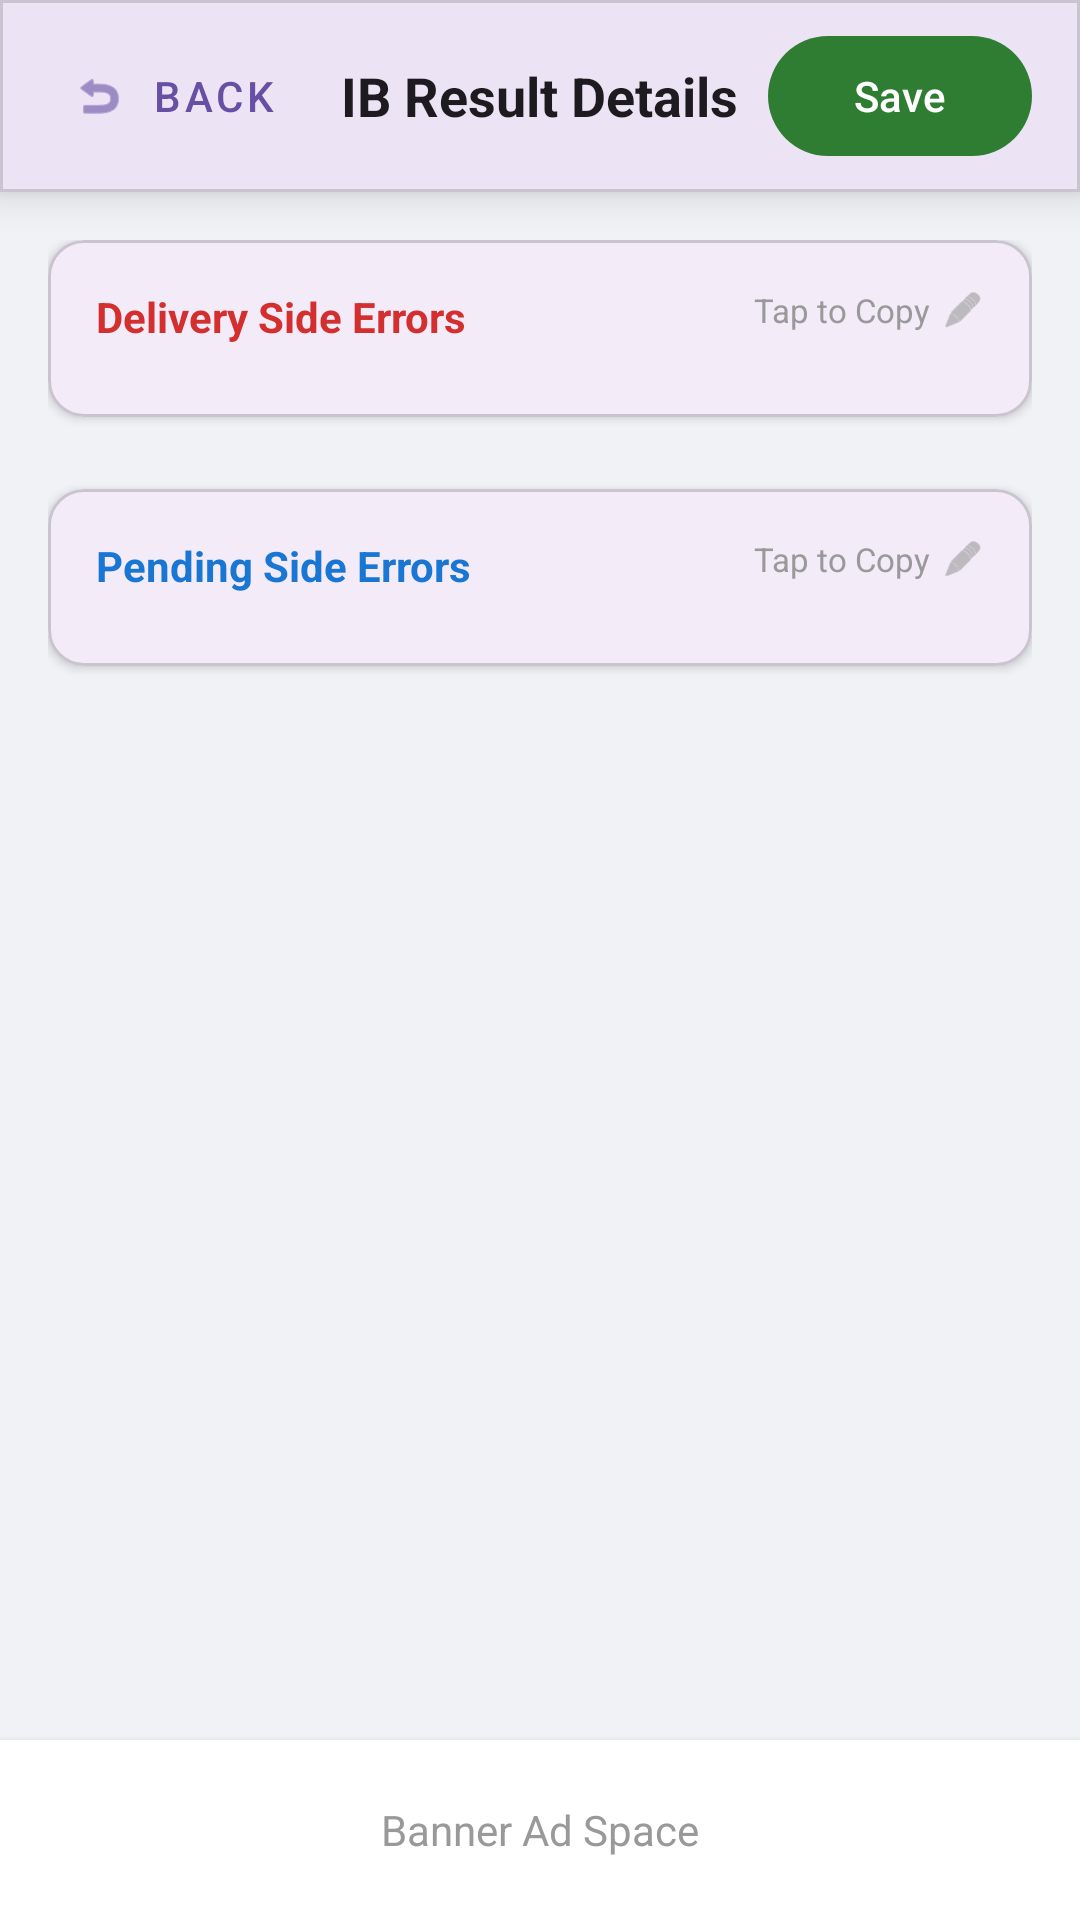

Where icons sit on this 1080x1920 app screen, as (x1,y1,x2,y2):
edit: (945,292,980,327), (945,541,980,576)
